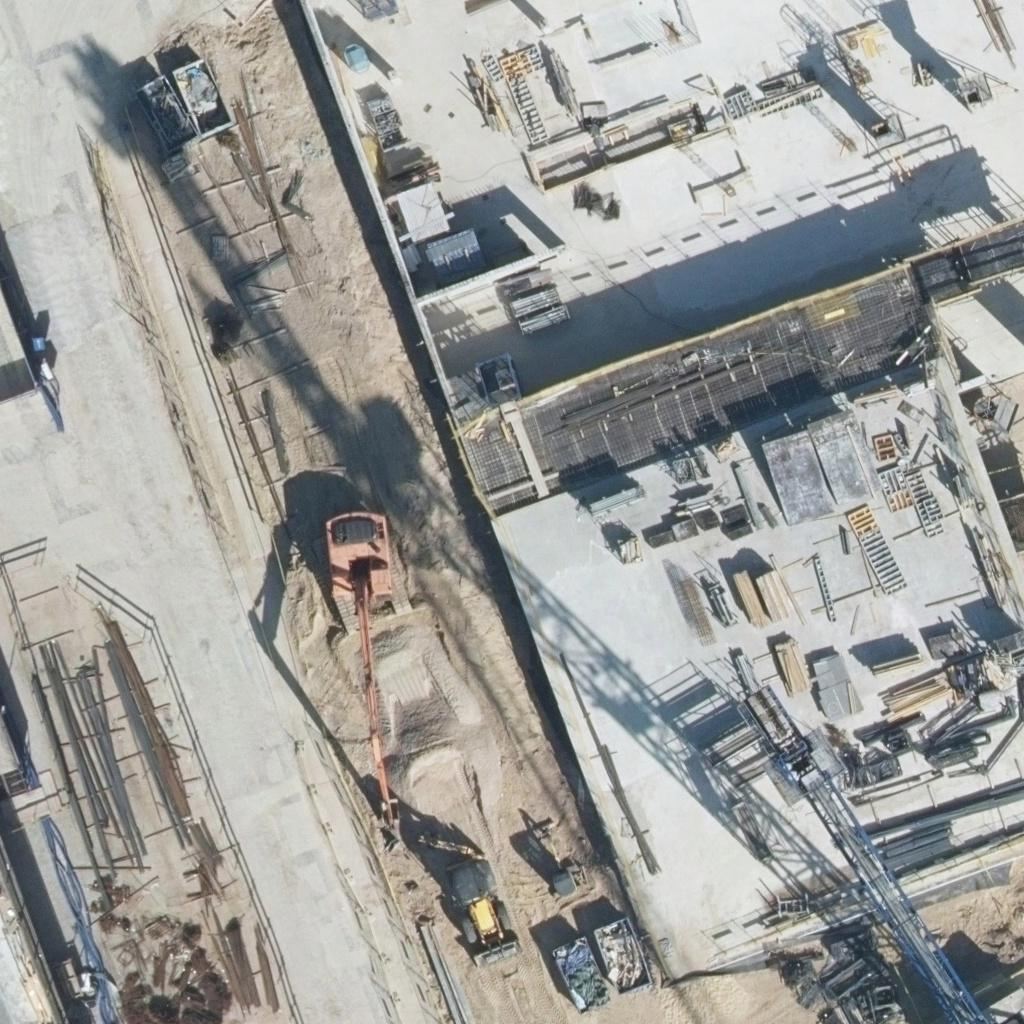koparka: (326, 512, 397, 827), (421, 836, 520, 965)
zuraw_wiezowy: (743, 680, 986, 1023)
